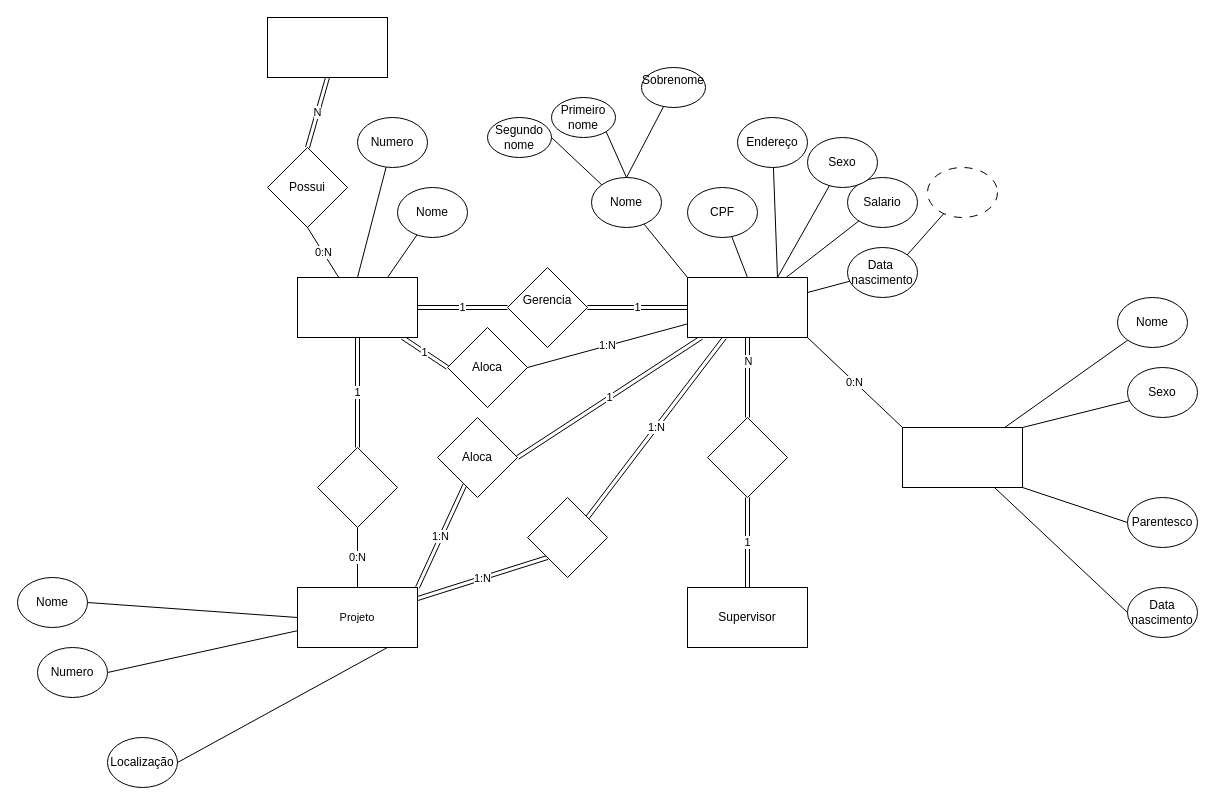
Image size: 1215x805. Some labels were removed from this diagram. The centre of each missing label's shape, as x and y in pixels:
"Controla" goes at (357,487).
"Controla Horas" goes at (567,537).
"Departamento" goes at (357,307).
"Dependente" goes at (962,457).
"Empregado" goes at (747,307).
"Idade" goes at (962,192).
"Localizações" goes at (327,47).
"Supervisiona" goes at (747,457).
